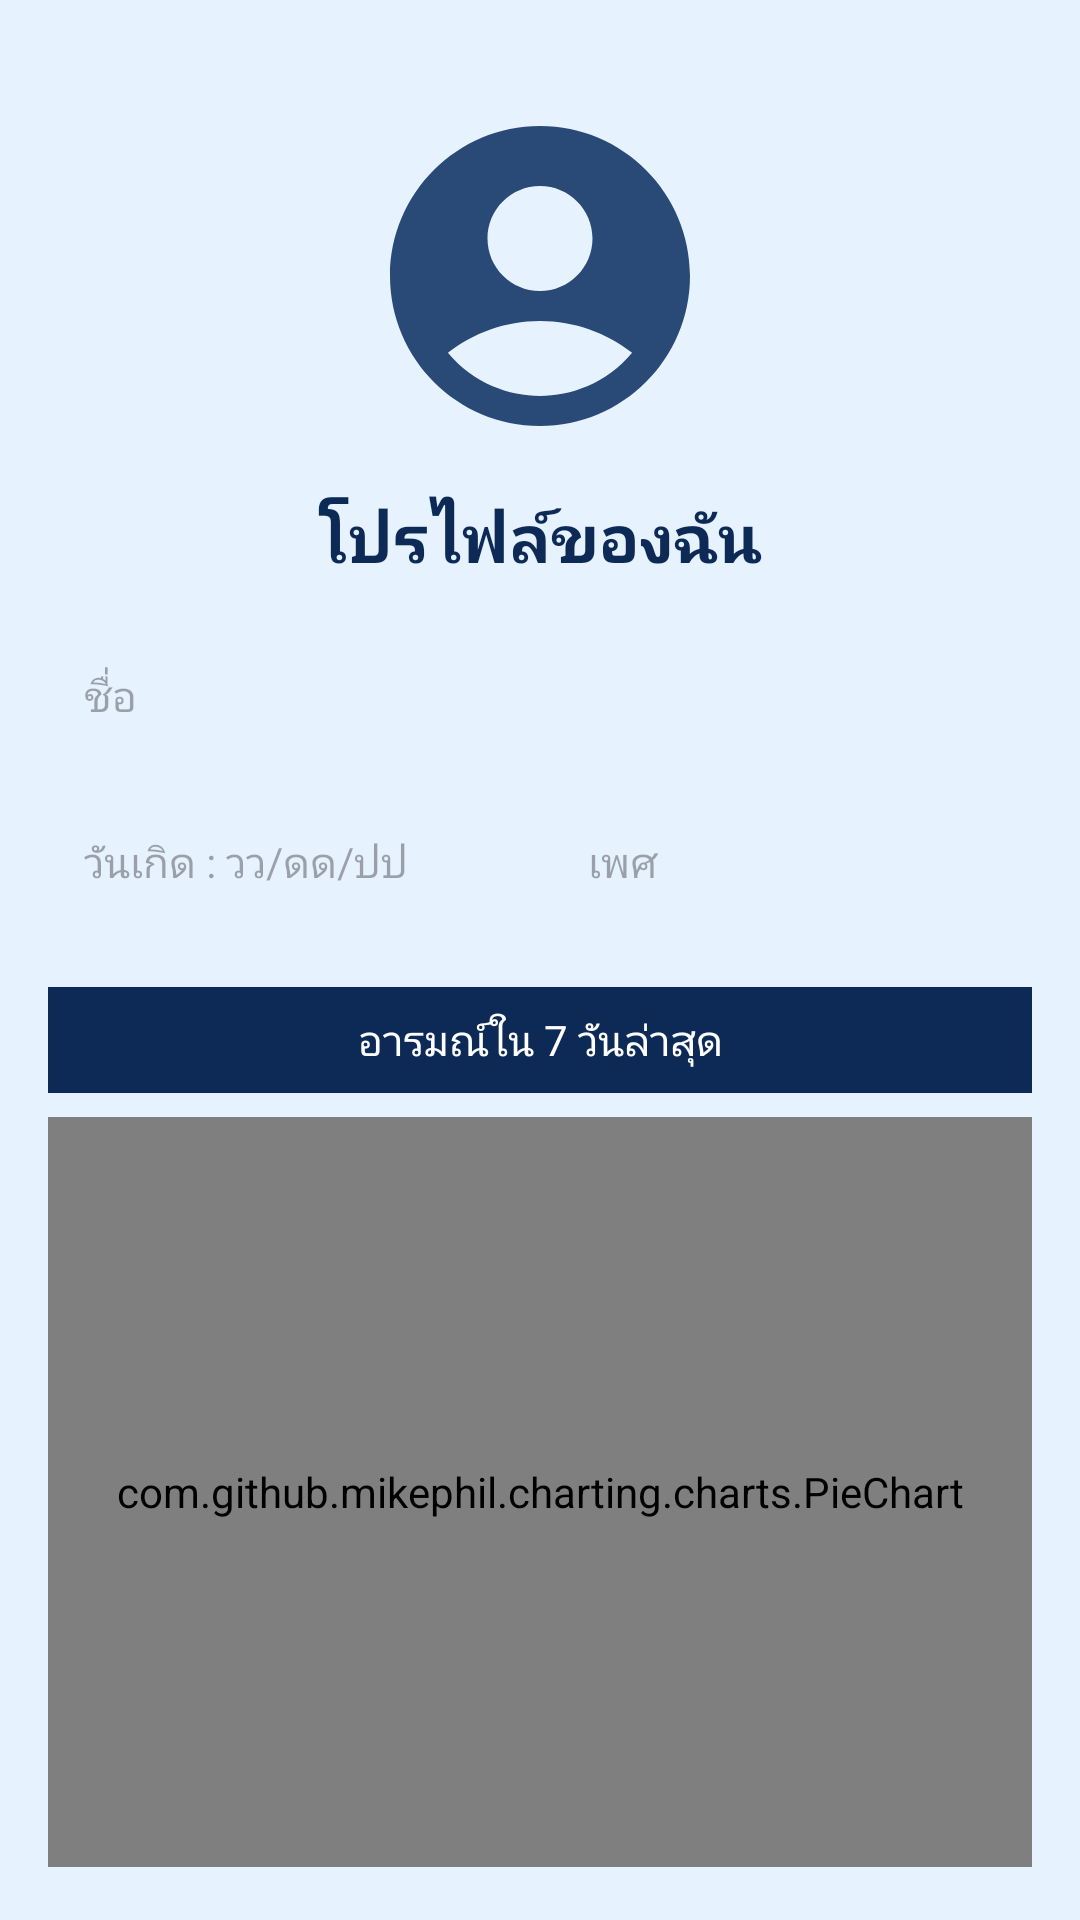

Where to tap for icons on this 1080w x 1920h app screen, as point (x, y):
account circle: point (540, 276)
